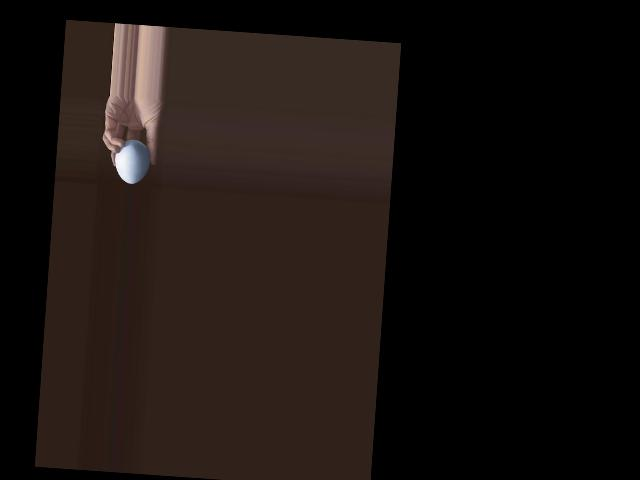egg: (112, 138, 150, 185)
